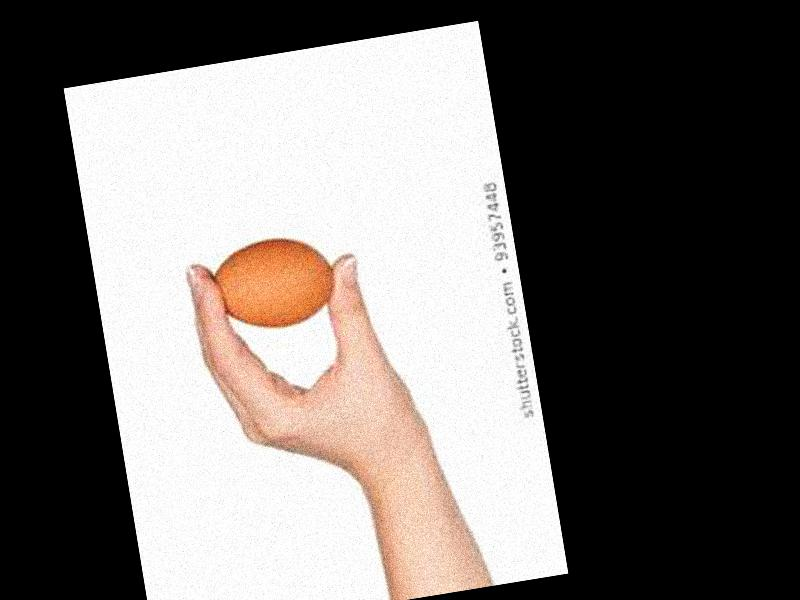Eggs: (202, 230, 340, 336)
